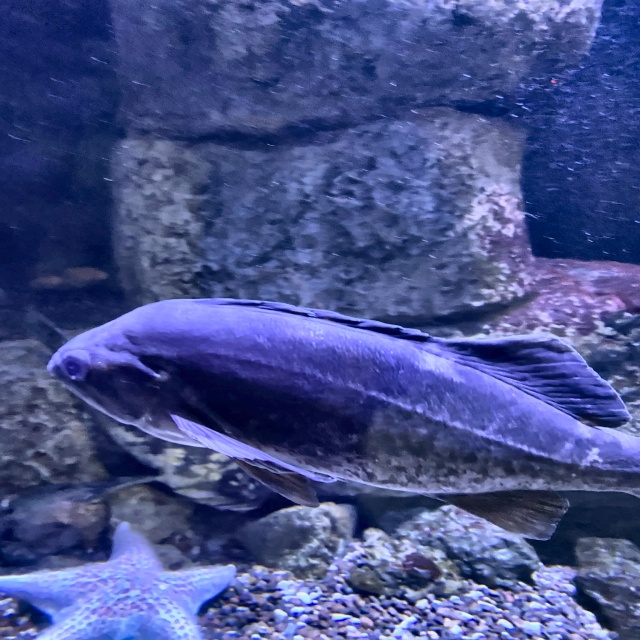fish: (50, 295, 639, 542)
starfish: (0, 523, 238, 639)
